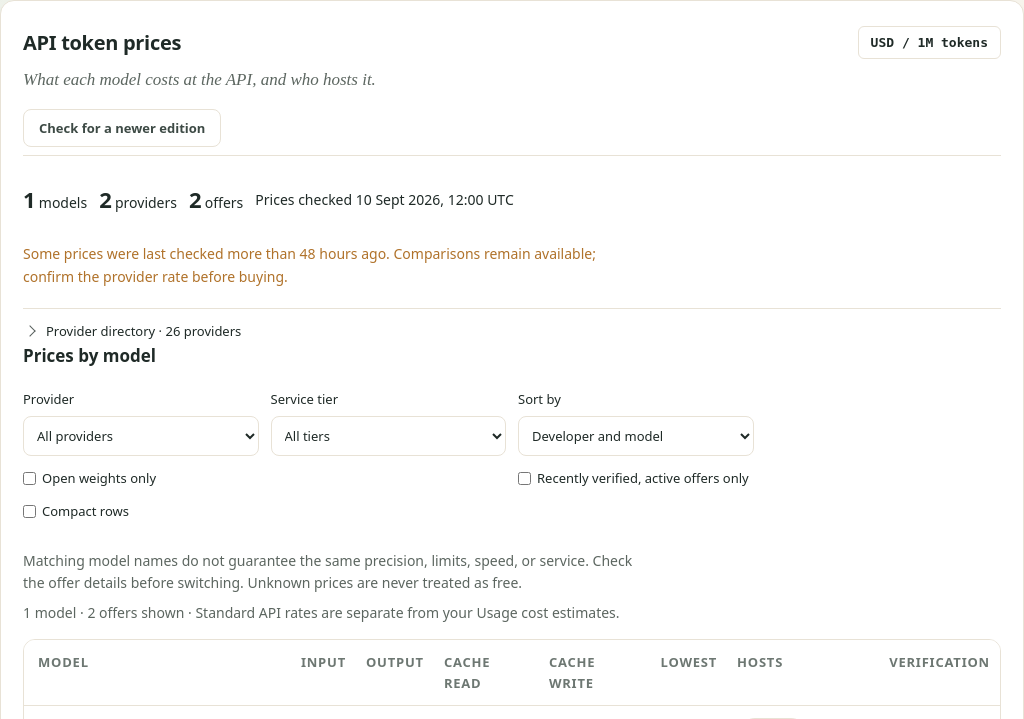
Test: fetches a validated hosted edition and retains the cache after a failed download
This screenshot has width=1024, height=719.
Expected: the text "2 offers shown" is shown, x1=23 y1=602 x2=648 y2=625
Click the button "Check for a newer edition": (122, 128) x1=23 y1=109 x2=221 y2=147
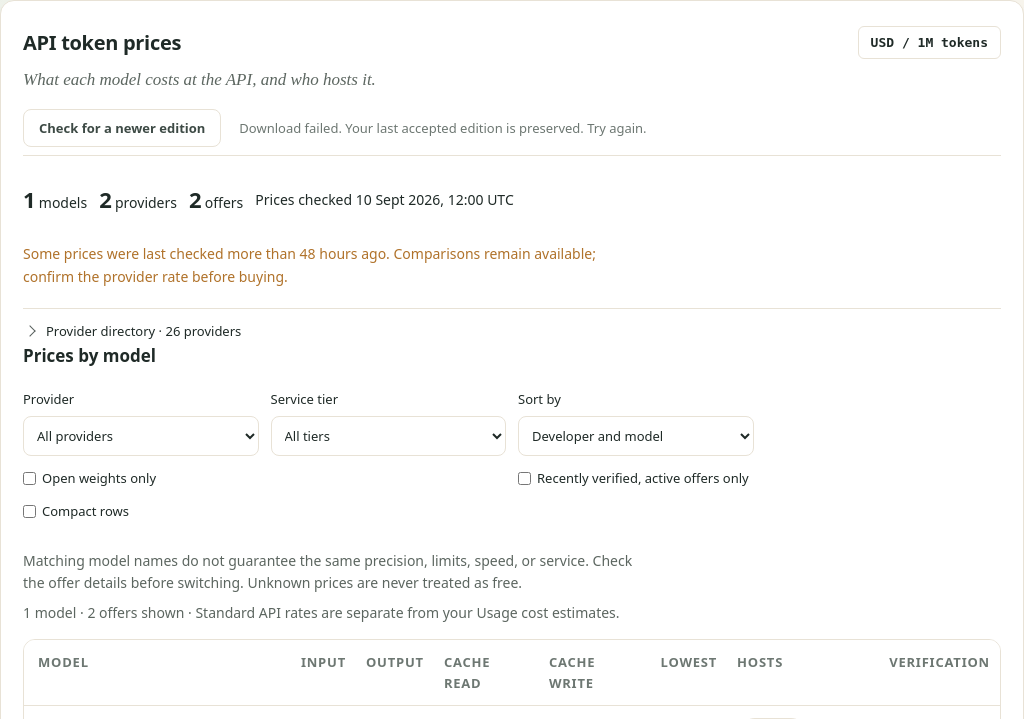
Expected: the text "2 offers shown" is shown, x1=23 y1=602 x2=648 y2=625
Now the message shows "last accepted edition is preserved", box x1=239 y1=119 x2=647 y2=137
